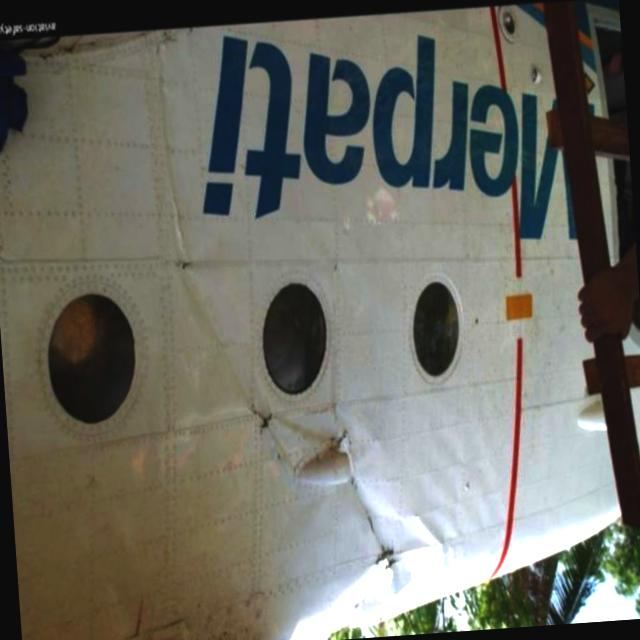crack: (362, 510, 402, 577), (246, 400, 276, 438)
dent: (332, 506, 456, 632)
